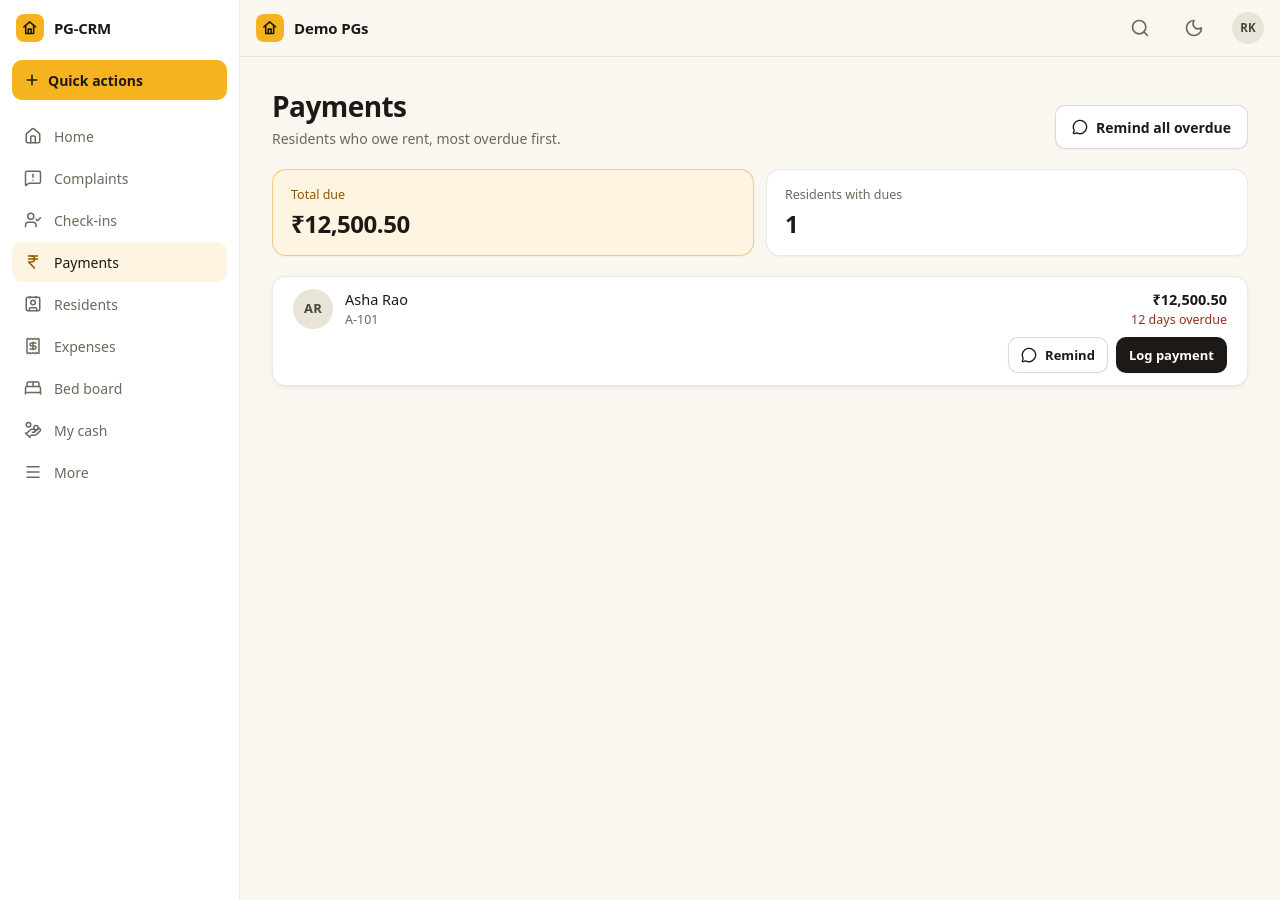
Test: Log payment sheet › [FE-31/AC3] the UTR field takes digits only, strips spaces, and blocks submit until 12 digits
Click the button with aria-label "Log payment for Asha Rao" at (1171, 355), box [1116,337,1227,373]
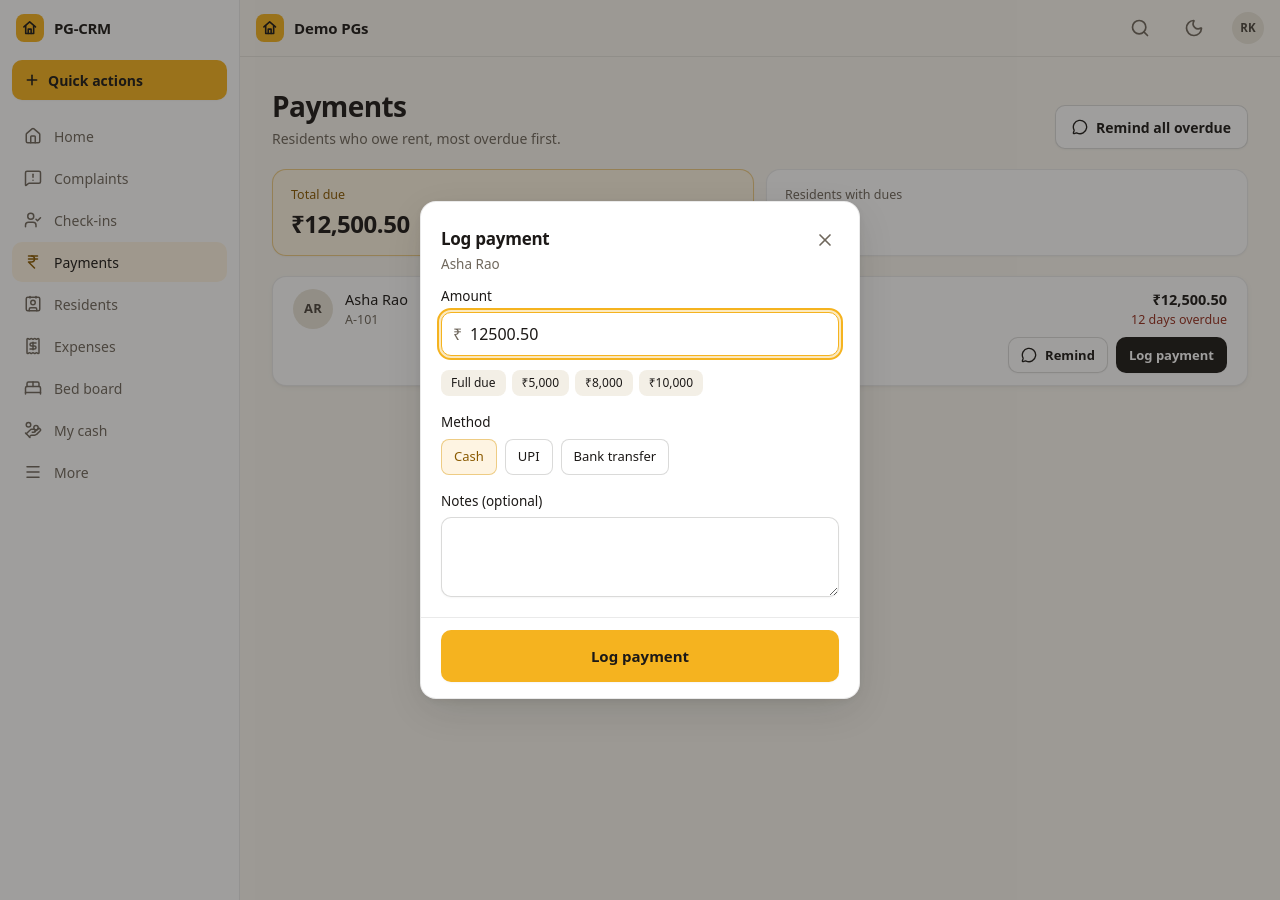
Click the button "UPI" at (529, 456), box [505,438,553,474]
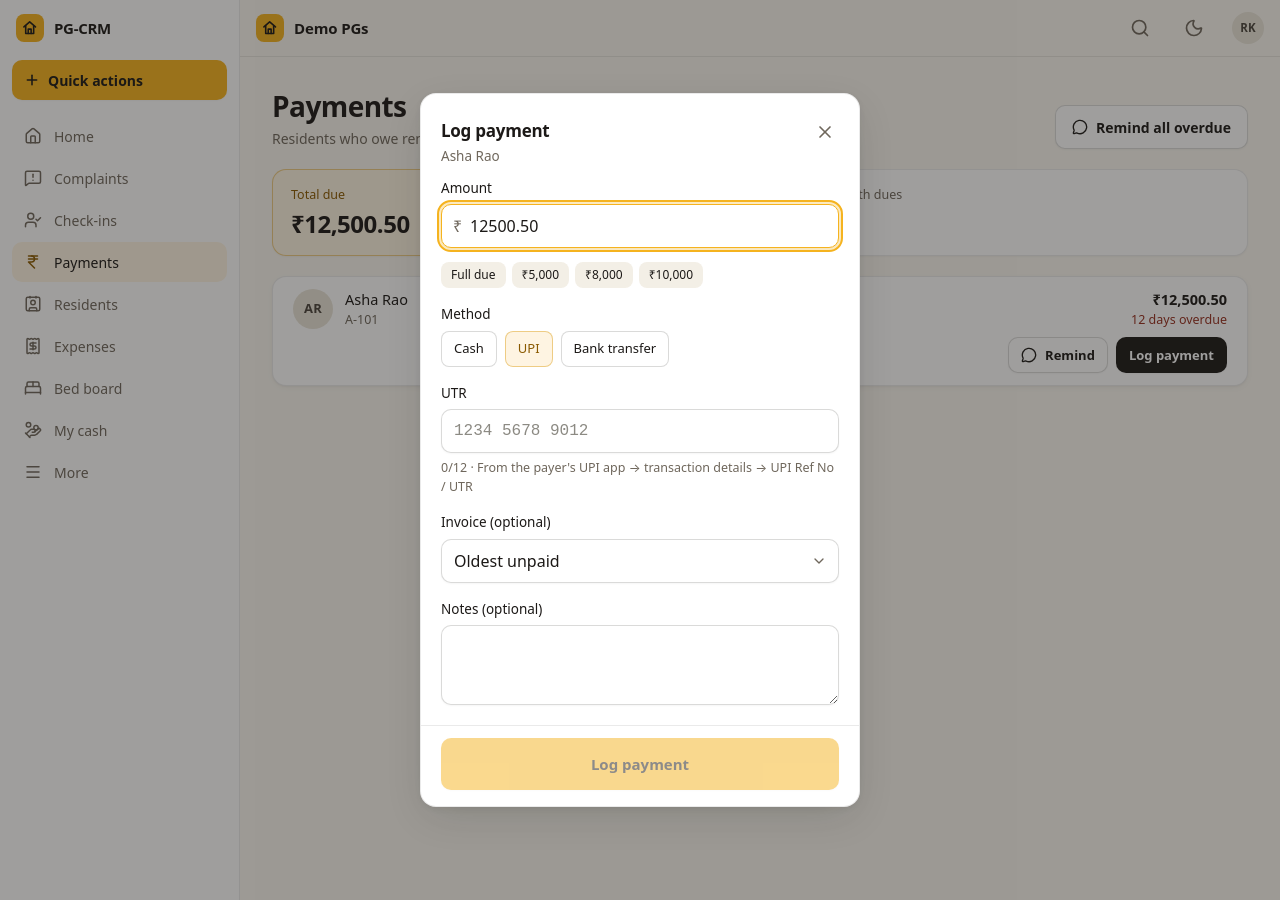
Now the submit button is disabled, box [441,738,839,790]
Type "12ab 34-5" into the field labelled "UTR" at (640, 431), box [441,409,839,453]
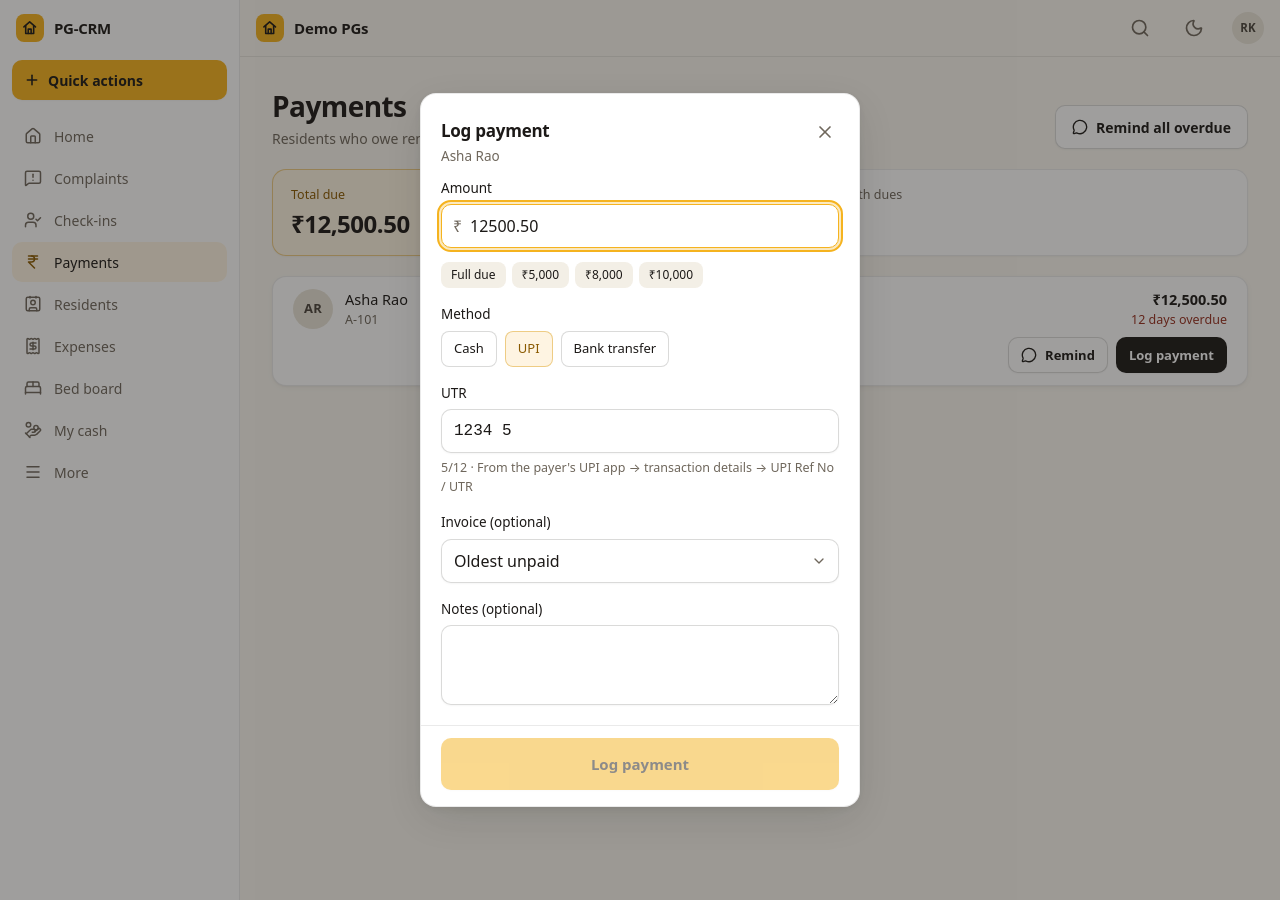
Now the submit button is disabled, box [441,738,839,790]
Now the field labelled "UTR" holds "1234 5"
Now the text with test id "utr-counter" reads "5/12", box [441,459,467,476]
Replace the text in the field labelled "UTR" with "1234 5678 9012 3456" at (640, 431), box [441,409,839,453]
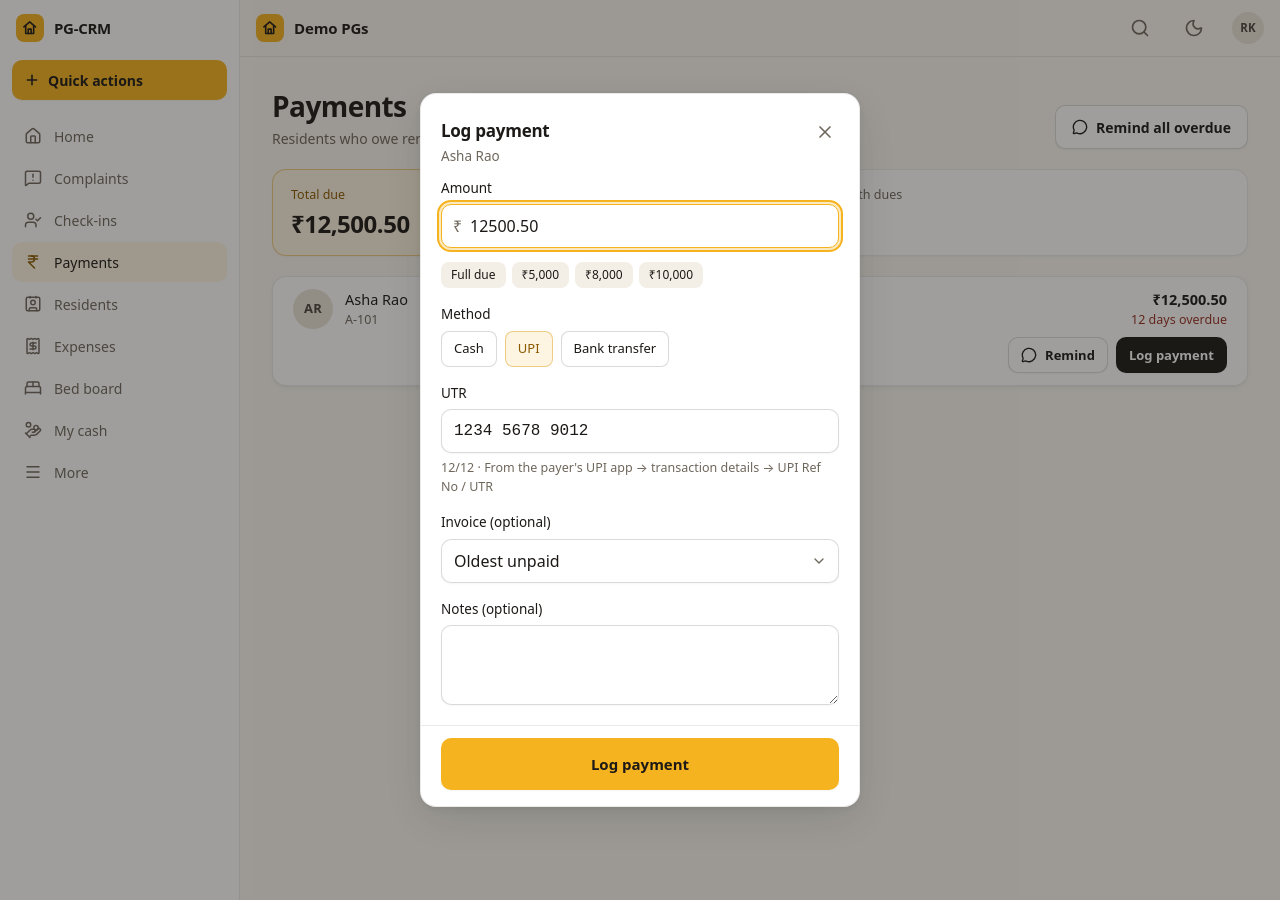
Now the field labelled "UTR" holds "1234 5678 9012", box [441,409,839,453]
Now the text with test id "utr-counter" reads "12/12", box [441,459,474,476]
Now the submit button is enabled, box [441,738,839,790]
